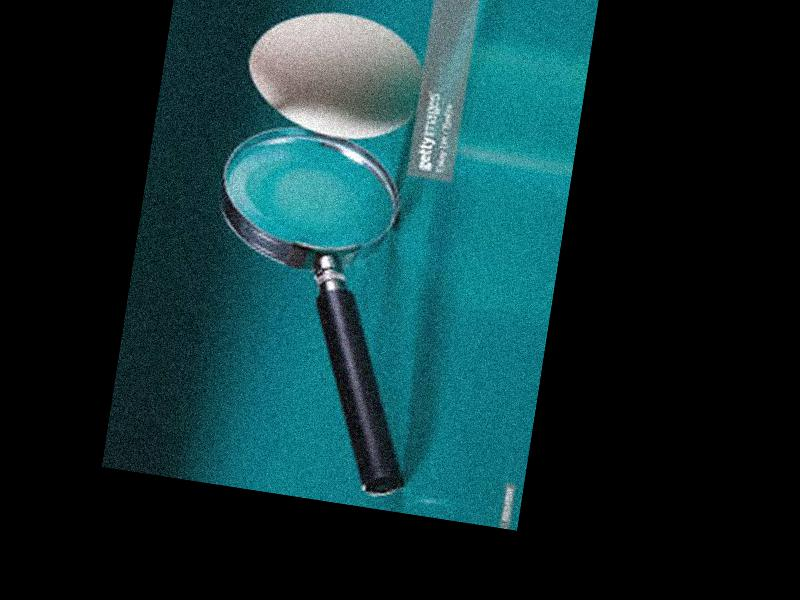Eggs: (238, 0, 432, 149)
